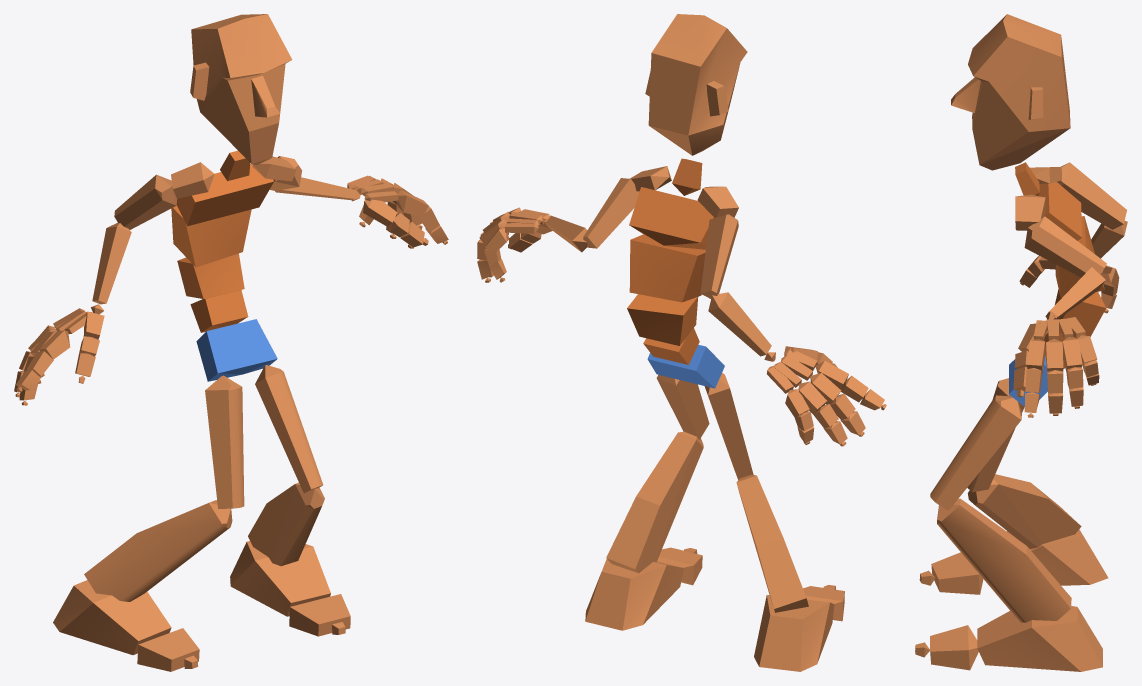
File: prueba228.obj
The picture shows the model from 3 angles, left to right: view 1: azimuth 30°, elevation 25°; view 2: azimuth 150°, elevation 25°; view 3: azimuth 270°, elevation 25°; orthographic projection. The views are drawn at different scales.
Parts seen in each view (by area): view 1: BOPED_Head, BOPED_R_leg, BOPED_R_foot, BOPED_R_foot01, BOPED_R_legup, BOPED_L_leg, BOPED_L_legup, Bone01, Bone04, Bone05, Bone03, BOPED_R_arm_upper (+8 smaller); view 2: BOPED_Head, BOPED_L_leg, BOPED_R_foot01, BOPED_R_foot, BOPED_R_leg, Bone04, Bone05, Bone03, BOPED_R_legup, BOPED_R_arm_upper, BOPED_L_legup, BOPED_L_arm_upper (+9 smaller); view 3: BOPED_Head, BOPED_L_leg, BOPED_R_foot01, BOPED_R_leg, BOPED_L_legup, BOPED_R_foot, BOPED_L_arm_upper, BOPED_R_arm_upper, BOPED_R_foot_toe04, Bone05, BOPED_R_foot_toe01, BOPED_L_arm_fore (+15 smaller).
Part boxes in pixels (left/top/right/bottom): BOPED_Head: left=190, top=14, right=292, bottom=165; BOPED_R_leg: left=84, top=500, right=232, bottom=601; BOPED_R_foot: left=53, top=580, right=171, bottom=655; BOPED_R_foot01: left=230, top=541, right=330, bottom=616; BOPED_R_legup: left=205, top=375, right=244, bottom=508; BOPED_L_leg: left=248, top=482, right=324, bottom=566; BOPED_L_legup: left=255, top=365, right=323, bottom=493; Bone01: left=196, top=319, right=277, bottom=381; Bone04: left=171, top=205, right=251, bottom=267; Bone05: left=176, top=164, right=273, bottom=226; Bone03: left=177, top=253, right=244, bottom=298; BOPED_R_arm_upper: left=114, top=174, right=177, bottom=229; BOPED_Head: left=645, top=14, right=747, bottom=155; BOPED_L_leg: left=606, top=431, right=703, bottom=573; BOPED_R_foot01: left=585, top=559, right=683, bottom=630; BOPED_R_foot: left=754, top=595, right=834, bottom=671; BOPED_R_leg: left=736, top=474, right=808, bottom=612; Bone04: left=629, top=234, right=705, bottom=302; Bone05: left=629, top=187, right=714, bottom=249; Bone03: left=627, top=294, right=698, bottom=345; BOPED_R_legup: left=704, top=373, right=753, bottom=479; BOPED_R_arm_upper: left=700, top=214, right=738, bottom=298; BOPED_L_legup: left=656, top=375, right=709, bottom=439; BOPED_L_arm_upper: left=583, top=178, right=639, bottom=248; BOPED_Head: left=951, top=14, right=1070, bottom=170; BOPED_L_leg: left=937, top=498, right=1071, bottom=622; BOPED_R_foot01: left=977, top=606, right=1102, bottom=671; BOPED_R_leg: left=967, top=474, right=1081, bottom=548; BOPED_L_legup: left=930, top=395, right=1021, bottom=510; BOPED_R_foot: left=1007, top=529, right=1108, bottom=585; BOPED_L_arm_upper: left=1024, top=216, right=1106, bottom=277; BOPED_R_arm_upper: left=1057, top=162, right=1126, bottom=229; BOPED_R_foot_toe04: left=930, top=625, right=978, bottom=670; Bone05: left=1038, top=182, right=1082, bottom=240; BOPED_R_foot_toe01: left=931, top=552, right=983, bottom=594; BOPED_L_arm_fore: left=1045, top=267, right=1105, bottom=319.
Bounding box in the file's own units: 130 × 177 × 55.92.
